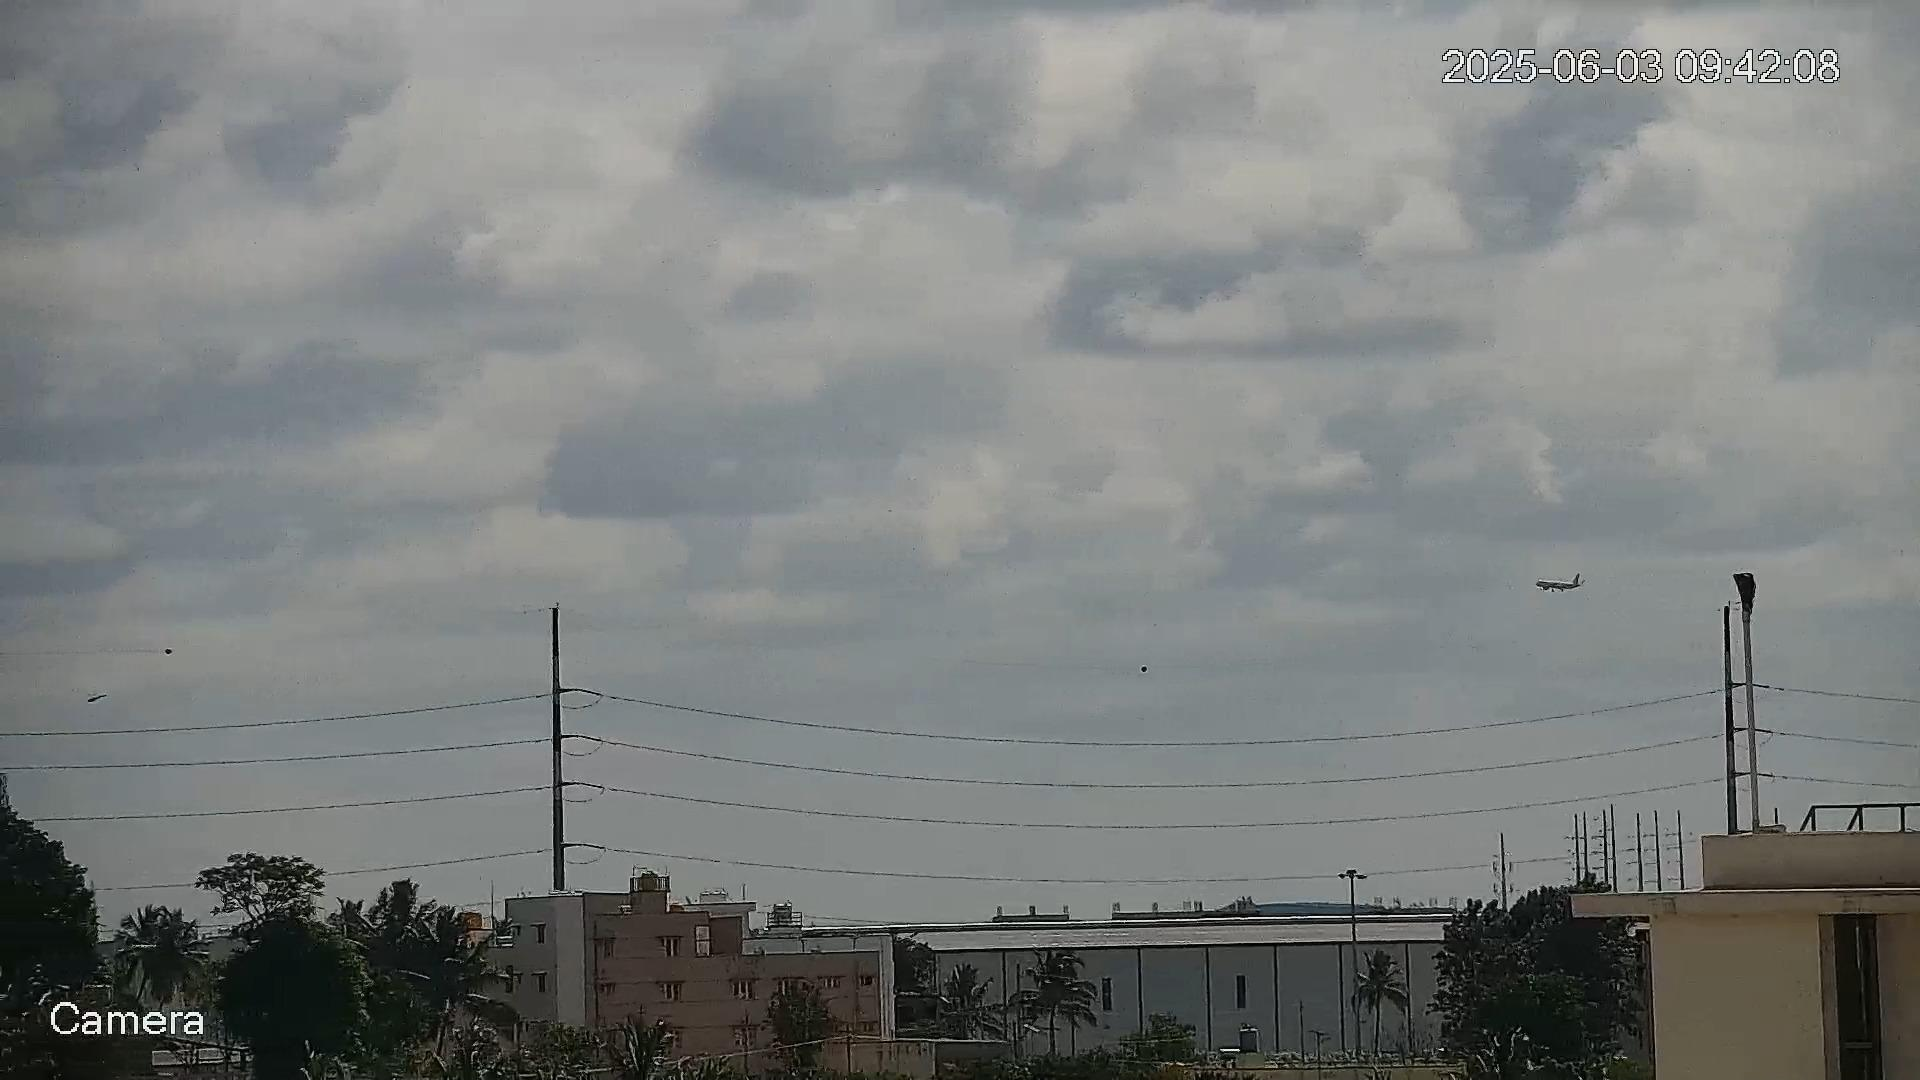Aircraft: (1532, 572, 1586, 596)
